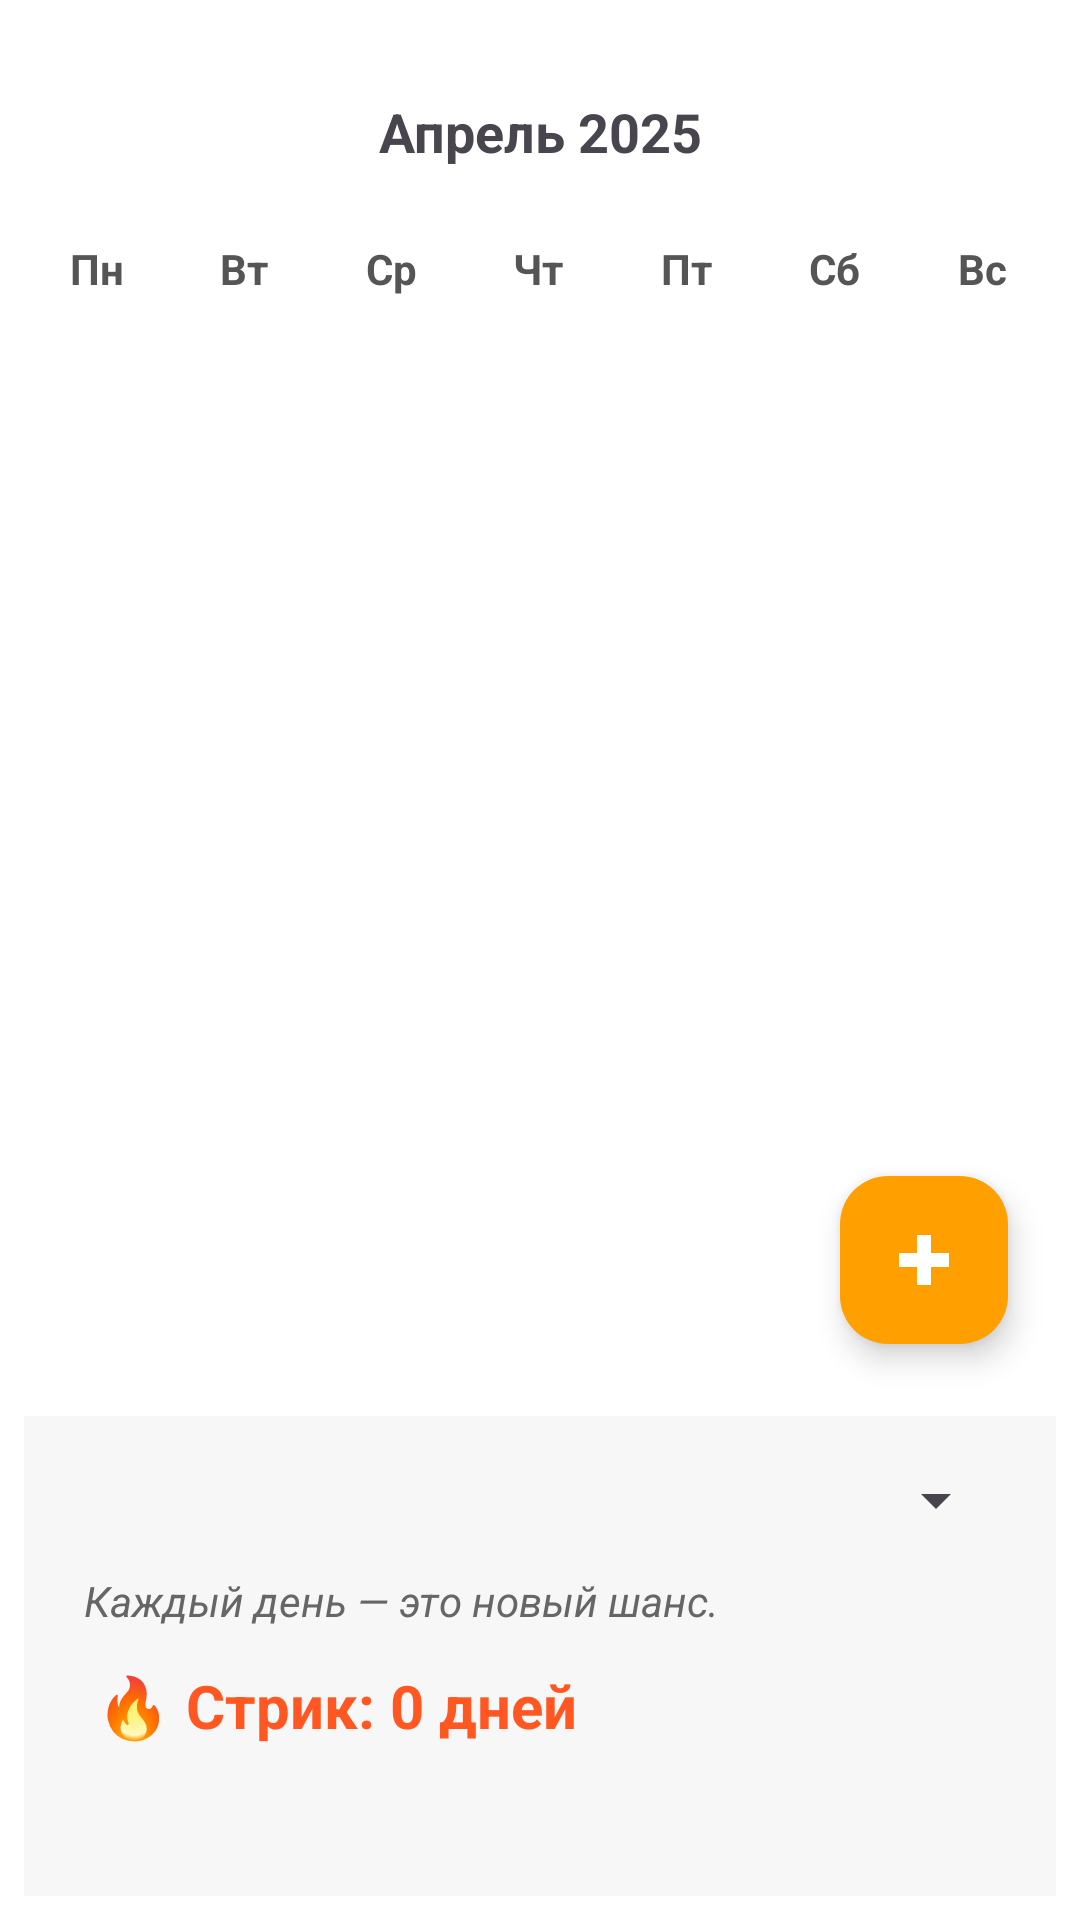

Point at icon controls on the screen. Image size 1080 x 1920, points as (x=x, y=y).
plus: (x=924, y=1260)
